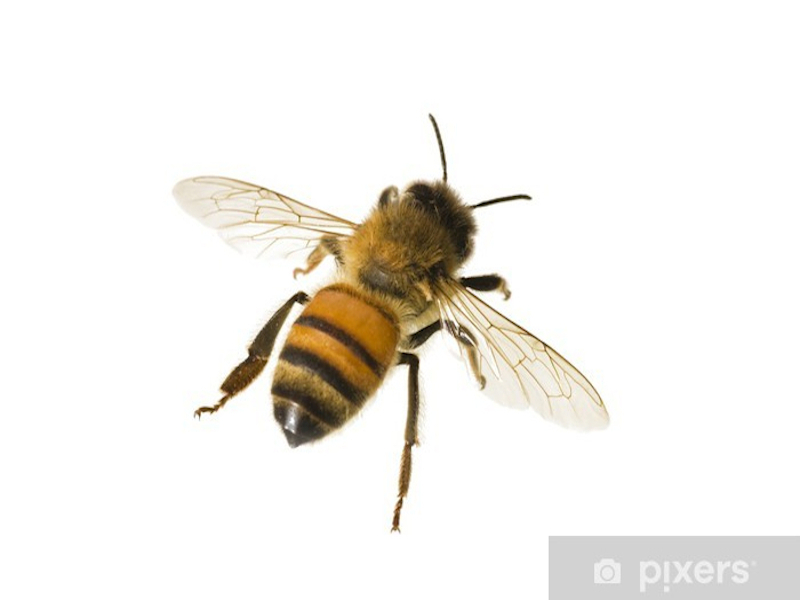abeja: (146, 90, 632, 531)
